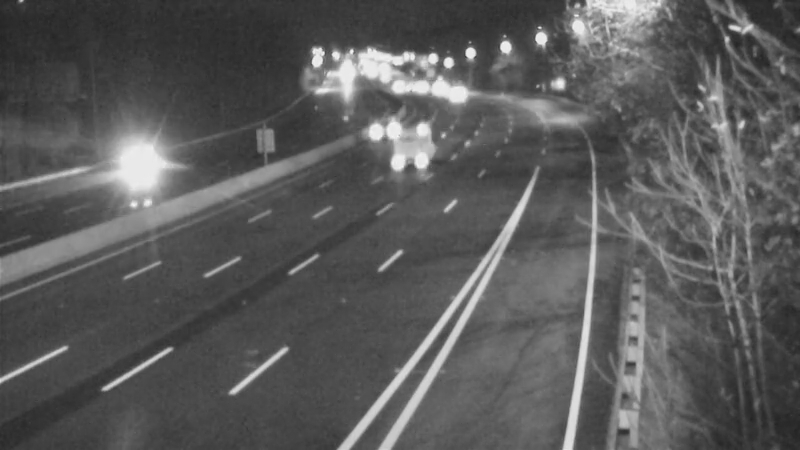vehicle: (106, 129, 186, 209), (394, 60, 444, 110), (415, 63, 465, 113), (437, 67, 487, 117), (354, 107, 404, 157), (392, 125, 442, 175)
